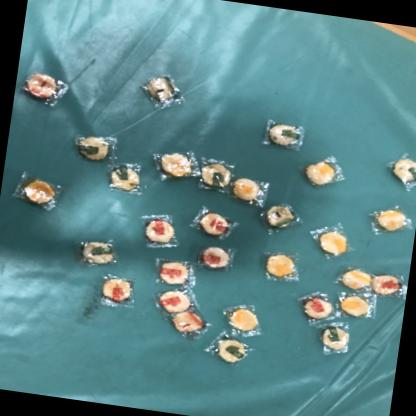green_setoshio: (138, 70, 192, 112), (204, 331, 258, 370), (101, 159, 152, 199), (313, 318, 359, 361), (262, 117, 312, 154), (74, 234, 124, 270), (71, 129, 118, 167), (196, 154, 239, 192), (263, 198, 306, 236), (387, 154, 416, 190)
red_setoshio: (18, 66, 74, 107), (138, 209, 184, 251), (188, 204, 238, 242), (292, 285, 338, 325), (194, 241, 240, 278), (96, 271, 138, 306), (152, 256, 196, 288), (150, 284, 194, 315), (170, 308, 212, 340), (370, 270, 408, 298)
yellow_setoshio: (304, 220, 360, 263), (10, 171, 64, 214), (149, 144, 199, 182), (221, 299, 268, 339), (300, 153, 348, 191), (257, 245, 301, 284), (365, 201, 412, 235), (336, 288, 380, 324), (232, 176, 270, 212), (337, 262, 375, 294)
